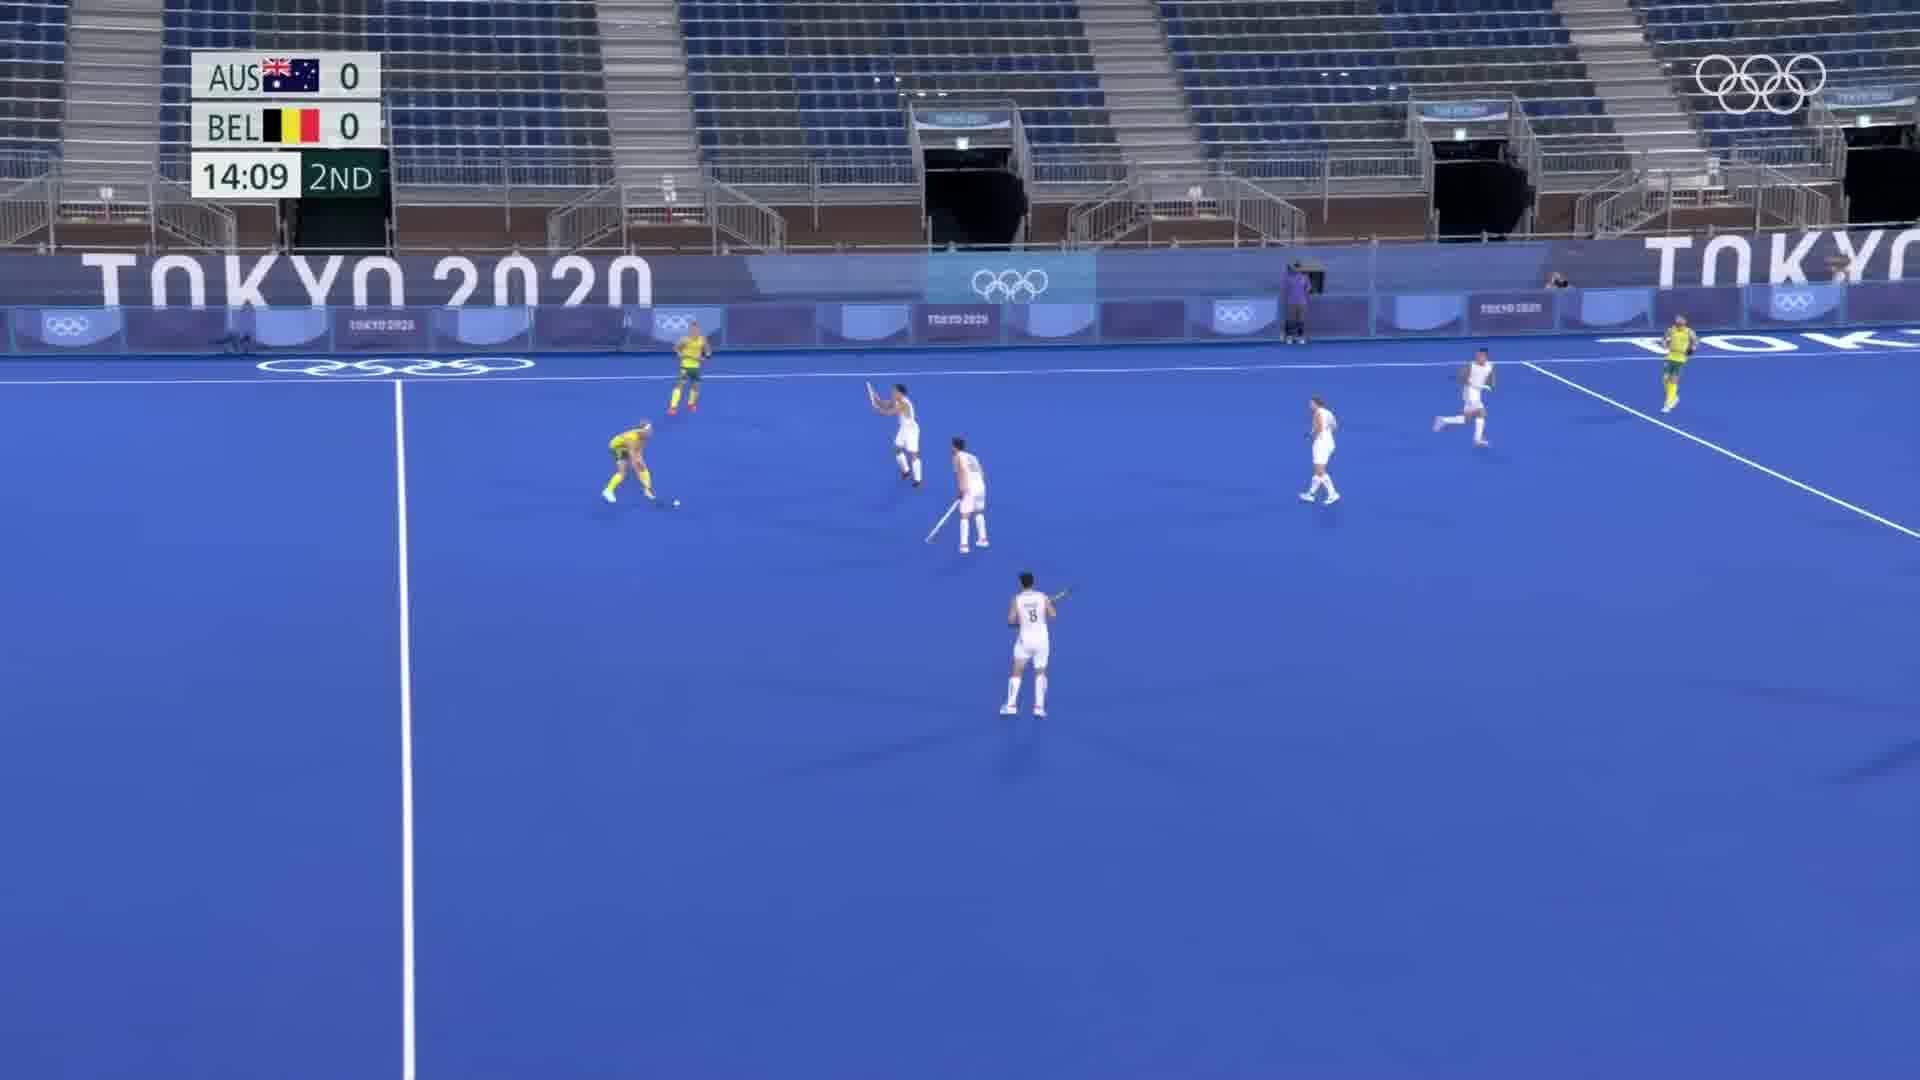ball: (669, 495, 687, 509)
